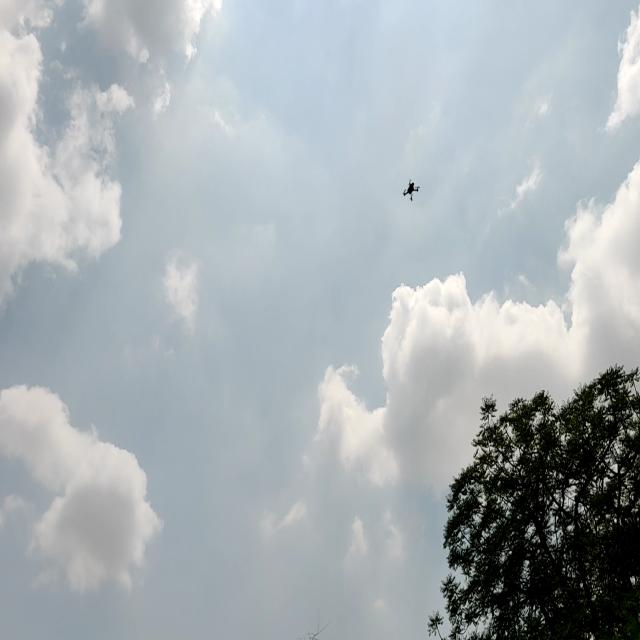drone: (399, 167, 424, 209)
